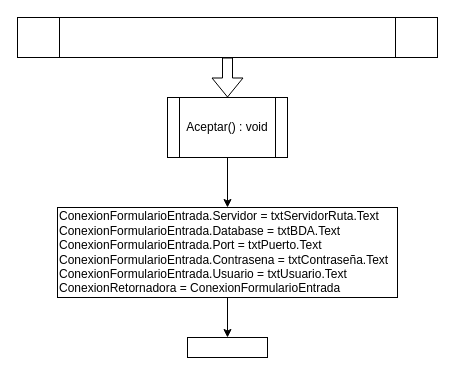
Some shapes in this 455 by 375 pixel diagram are drawn without their labels. Here are the shapes that lost their labels. From the top down, the centre of each, then its label:
the point at 227,37: btnAceptar_Click (object sender, EventArgs e) : void
the point at 227,347: this.Close()
